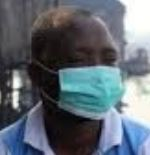with_facemask: (57, 66, 134, 125)
